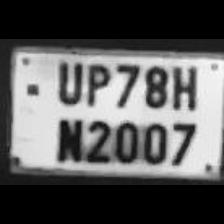0: (110, 116, 140, 164), (140, 117, 166, 165)
2: (82, 114, 110, 162)
7: (166, 116, 198, 166), (109, 59, 139, 109)
8: (140, 61, 168, 108)
H: (167, 62, 199, 112)
N: (50, 112, 84, 162)
P: (82, 59, 112, 109)
U: (50, 55, 84, 105)
